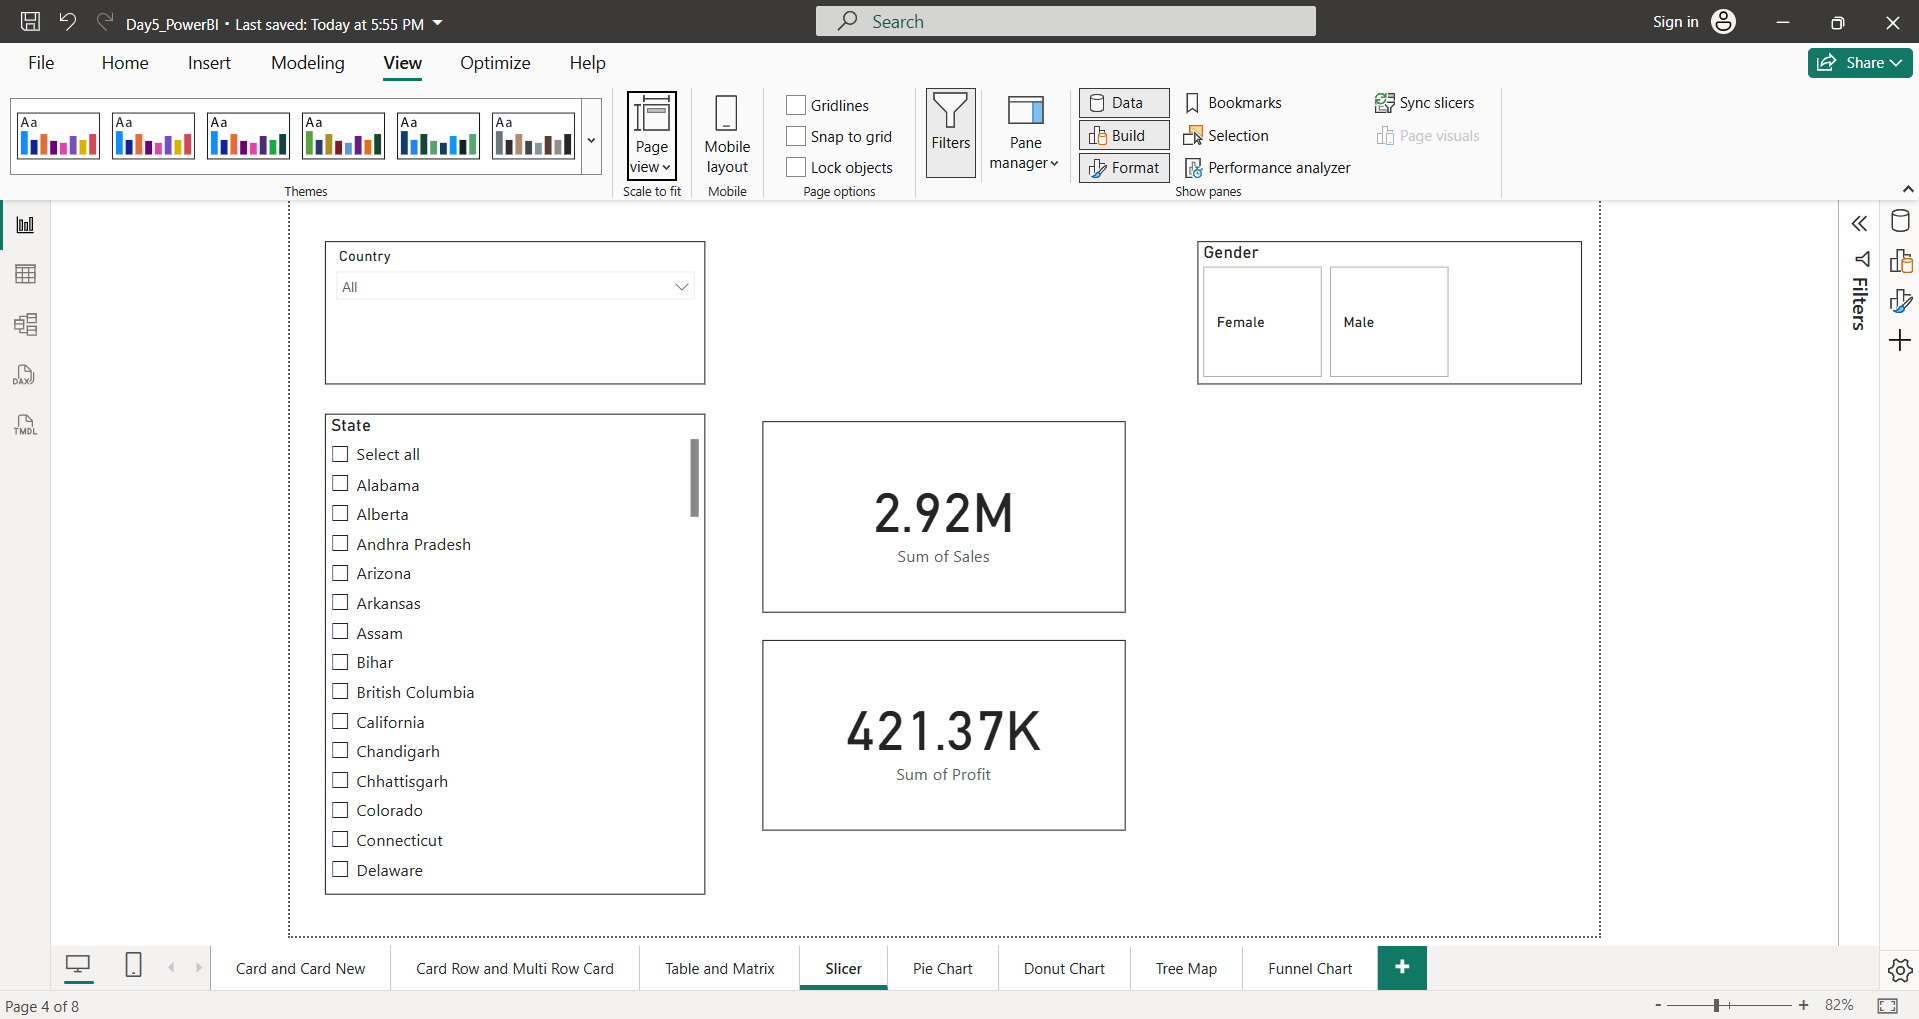

The page's visual inventory and layout, read from the dashboard file:
{"tool":"powerbi","page":{"name":"Slicer","canvas":[1280,720],"ordinal":3},"visuals":[{"type":"slicer","fields":{"Values":["India New data.Country"]},"box":[34,40,372,140],"z":0},{"type":"advancedSlicerVisual","fields":{"Values":["India New data.Gender"]},"box":[888,40,376,140],"z":1},{"type":"listSlicer","fields":{"Values":["India New data.State"]},"box":[34.2,209.6,372.2,470.6],"z":2},{"type":"card","fields":{"Values":["Sum(India New data.Sales)"]},"box":[462,217,355,187],"z":3},{"type":"card","fields":{"Values":["Sum(India New data.Profit)"]},"box":[462,430,355,186],"z":4}]}

Visuals, with their boxes on the page's 1280x720 design canvas (x1, y1, x2, y2). These are canvas units, not pixel positions in the 1919x1019 screenshot, which may show the page scaled, cropped or inside an application window:
slicer - India New data.Country: l=34, t=40, r=406, b=180
advancedSlicerVisual - India New data.Gender: l=888, t=40, r=1264, b=180
listSlicer - India New data.State: l=34, t=210, r=406, b=680
card - Sum(India New data.Sales): l=462, t=217, r=817, b=404
card - Sum(India New data.Profit): l=462, t=430, r=817, b=616
